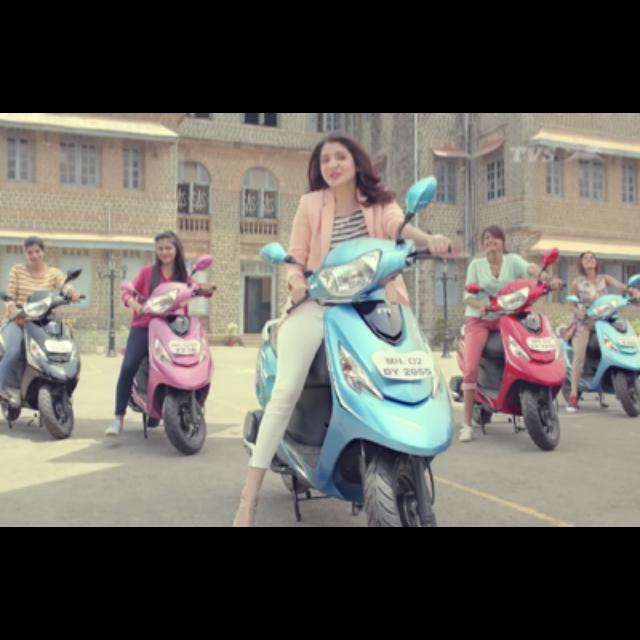Without Helmet: (311, 128, 364, 188), (475, 222, 509, 256), (18, 232, 48, 266), (576, 243, 598, 275), (149, 227, 183, 240)
